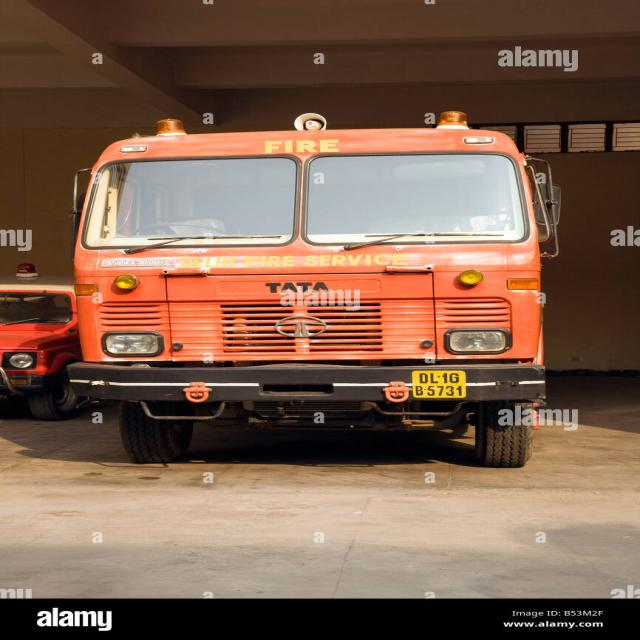Fire Truck: (72, 94, 578, 516)
